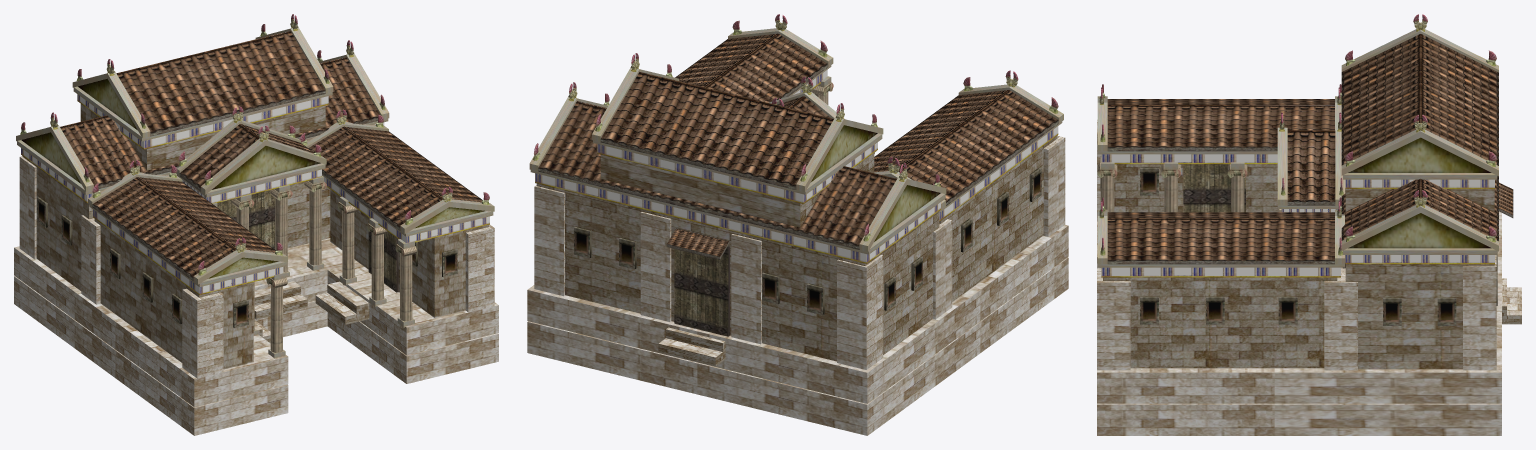
Rendered from barracks.dae.
3 views of the same model, side by side, from view 1: azimuth 30°, elevation 25°; view 2: azimuth 150°, elevation 25°; view 3: azimuth 270°, elevation 25° (orthographic). The views are drawn at different scales.
Visible parts, largest first — view 1: barracks; view 2: barracks; view 3: barracks.
Part boxes in pixels (x1,y1,x2,y2): barracks: (14, 14, 498, 435); barracks: (527, 14, 1068, 435); barracks: (1097, 14, 1521, 435).
Bounding box in the file's own units: 18.36 × 19.74 × 14.77.
